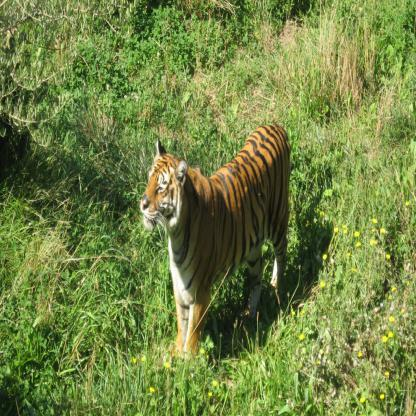tiger: (138, 148, 186, 239)
